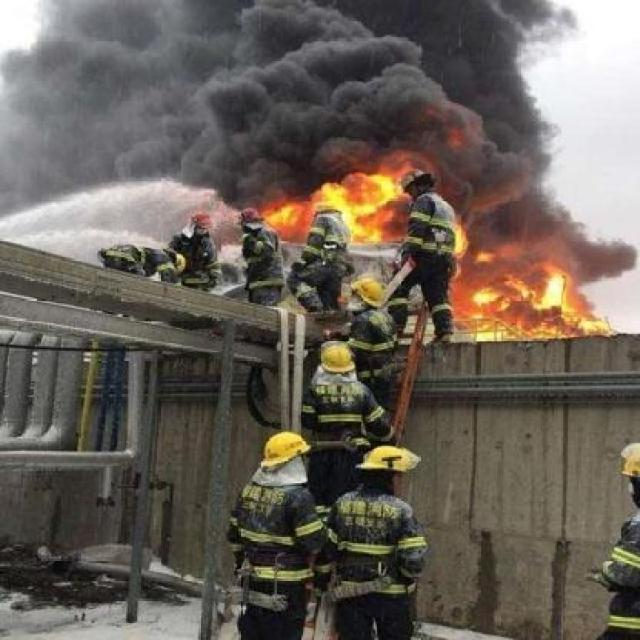Fire: (464, 258, 615, 337), (272, 164, 404, 249)
Smoke: (2, 0, 566, 191), (462, 185, 630, 268)
